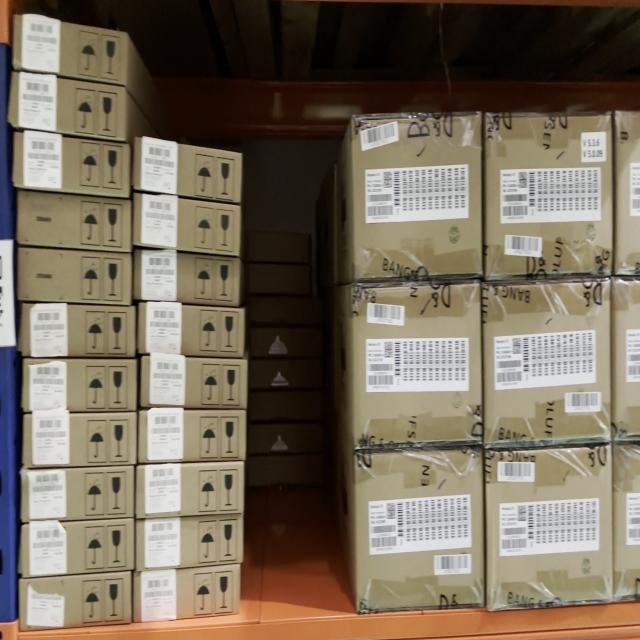box: (348, 113, 482, 283), (485, 278, 612, 442), (484, 114, 614, 273), (355, 450, 485, 604), (352, 289, 483, 440), (488, 450, 613, 606), (13, 72, 129, 140), (14, 129, 132, 195), (15, 16, 130, 83), (18, 188, 132, 252), (133, 138, 241, 201), (135, 190, 241, 253), (23, 358, 137, 415), (21, 412, 137, 467), (17, 252, 135, 305), (18, 576, 134, 628), (139, 301, 244, 357), (23, 305, 136, 357), (20, 521, 134, 572), (136, 464, 244, 516), (139, 412, 245, 464), (140, 354, 248, 405), (135, 567, 243, 618), (136, 254, 240, 306), (19, 470, 135, 514), (135, 520, 242, 567), (613, 278, 640, 438), (616, 111, 640, 285), (615, 442, 640, 597)
